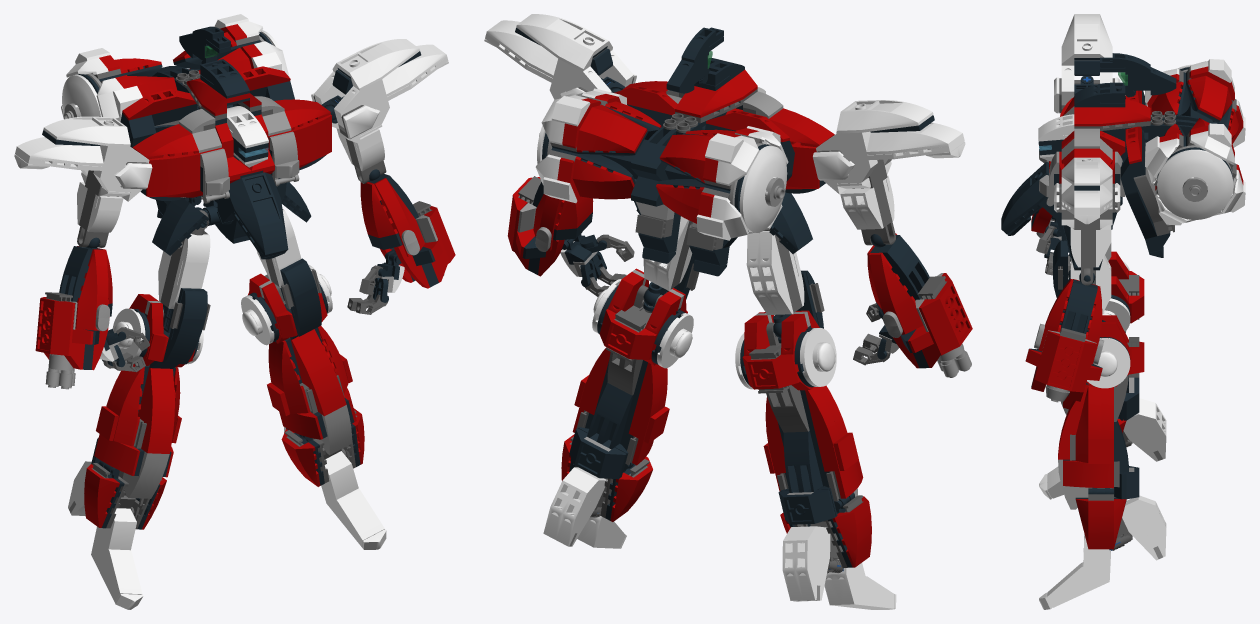
Rendered from queadluun-rau.dae.
3 views of the same model, side by side, from view 1: azimuth 30°, elevation 25°; view 2: azimuth 150°, elevation 25°; view 3: azimuth 270°, elevation 25° (orthographic). The views are drawn at different scales.
Size of the model in its own units: 734 by 384 by 862.
